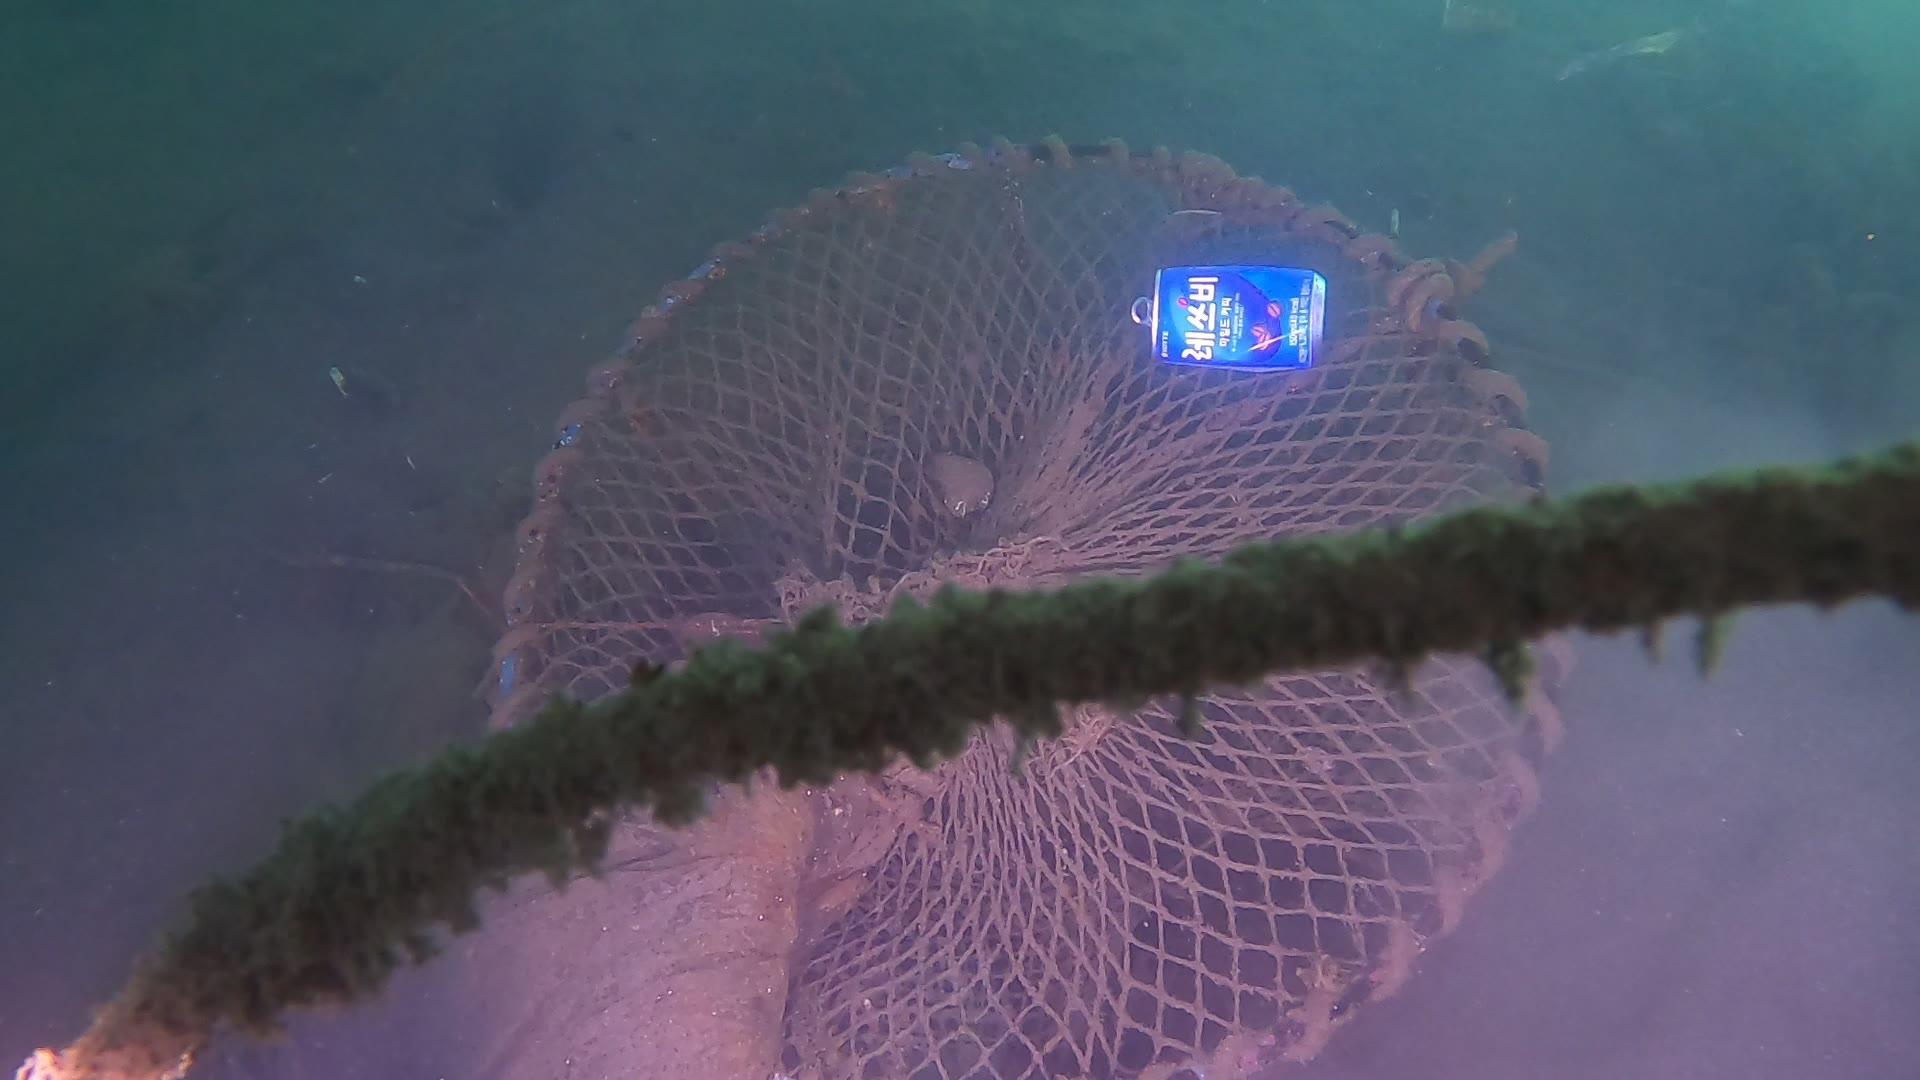circular fish trap: (480, 127, 1586, 1080)
rope: (0, 425, 1920, 1080)
